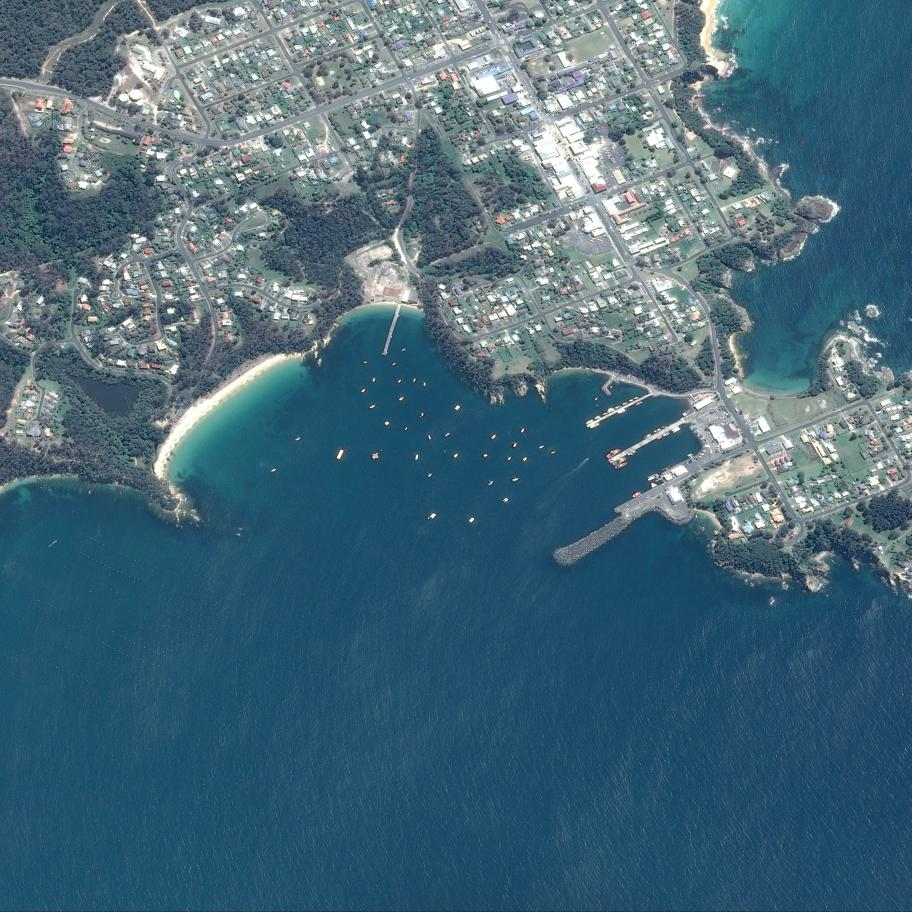ship: (605, 446, 622, 460), (611, 455, 628, 468), (614, 462, 629, 471), (336, 448, 345, 460), (589, 422, 601, 430), (584, 419, 595, 426), (652, 427, 662, 434), (372, 452, 380, 460), (468, 517, 476, 525), (614, 404, 623, 411), (643, 433, 652, 440), (662, 431, 671, 438), (631, 492, 640, 499), (607, 407, 615, 414), (454, 404, 461, 412), (429, 513, 437, 520), (593, 415, 602, 421), (647, 476, 656, 482), (384, 420, 391, 427), (502, 497, 509, 504), (522, 456, 529, 463), (660, 424, 668, 430), (270, 467, 278, 473), (635, 401, 643, 407), (487, 480, 495, 486), (627, 451, 635, 457), (538, 444, 546, 450), (453, 452, 459, 459), (491, 433, 497, 440), (520, 427, 526, 434), (414, 453, 419, 461), (621, 401, 629, 406), (512, 477, 520, 482), (399, 396, 405, 402), (512, 442, 518, 448), (445, 432, 451, 438), (507, 455, 513, 461), (369, 404, 376, 409), (602, 411, 609, 416), (628, 398, 635, 403), (550, 450, 557, 455), (372, 377, 377, 383), (361, 388, 367, 393), (483, 453, 489, 458), (657, 435, 663, 440), (633, 396, 640, 400), (428, 473, 433, 478), (397, 379, 402, 384), (608, 407, 614, 411), (428, 434, 432, 440), (401, 348, 407, 352), (372, 455, 376, 460), (404, 426, 408, 431), (392, 362, 397, 366), (413, 378, 417, 383), (594, 397, 599, 401), (586, 457, 590, 461), (363, 361, 368, 364), (421, 412, 424, 417), (423, 382, 426, 387)
storage-tank: (129, 90, 142, 100), (120, 95, 128, 102), (136, 101, 144, 107)
